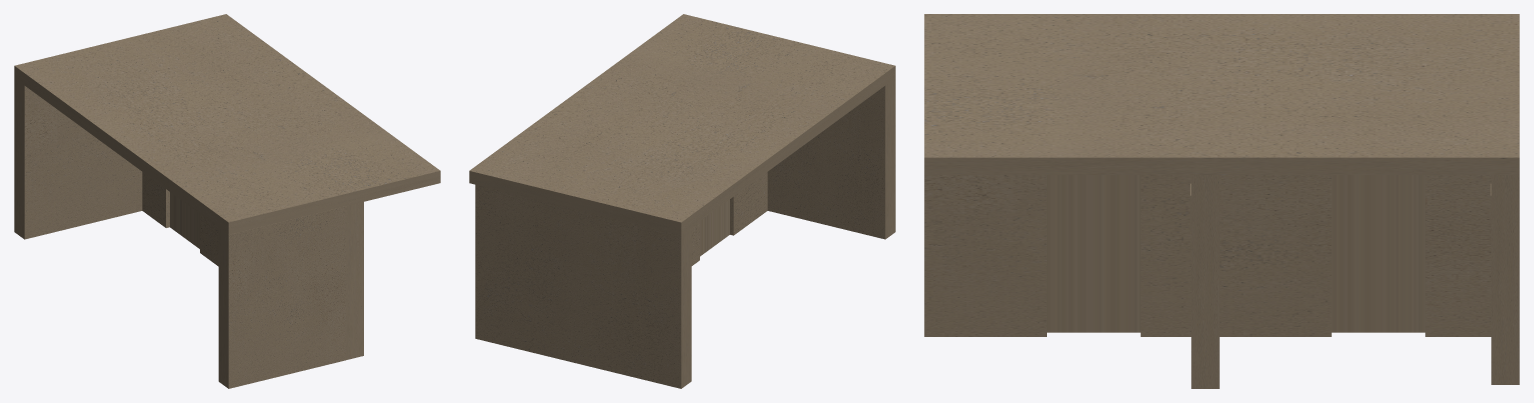
The model's file is Baños.obj.
The picture shows the model from 3 angles, left to right: view 1: azimuth 30°, elevation 25°; view 2: azimuth 150°, elevation 25°; view 3: azimuth 270°, elevation 25°; orthographic projection. The views are drawn at different scales.
Size of the model in its own units: 3.6 by 2.7 by 6.3.
